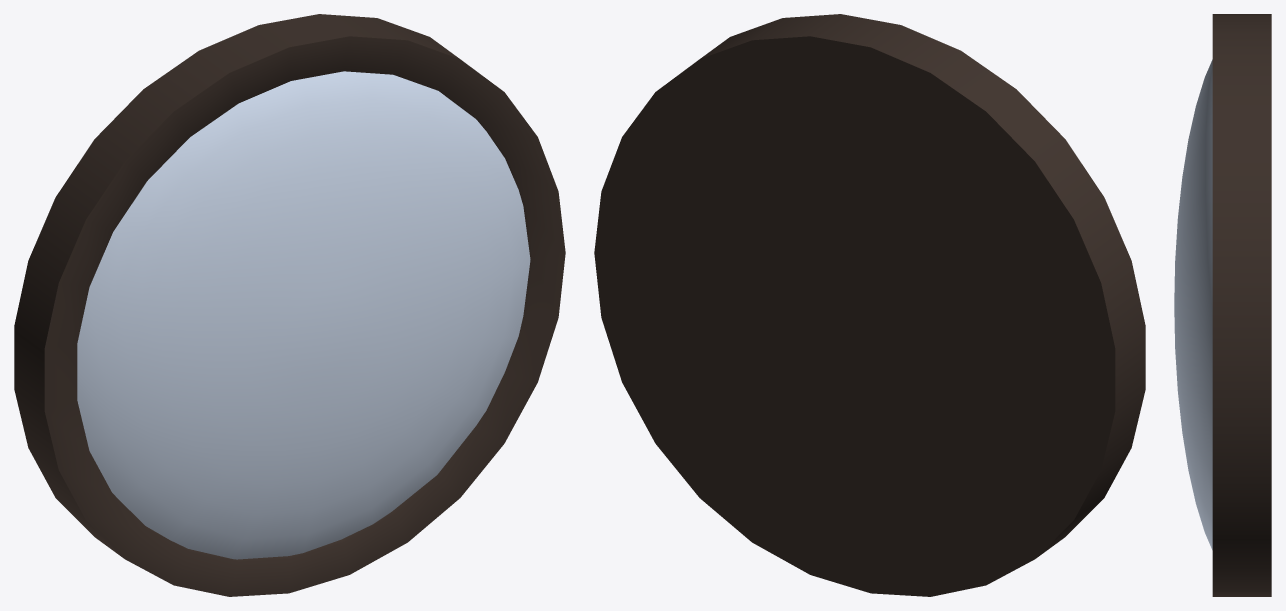
File: PS_Clock_17_DF.fbx
3 renders of one model, left to right at view 1: azimuth 30°, elevation 25°; view 2: azimuth 150°, elevation 25°; view 3: azimuth 270°, elevation 25°, orthographic. The views are drawn at different scales.
Parts seen in each view (by area): view 1: Glass2, BrownOuterTrim; view 2: BrownOuterTrim; view 3: BrownOuterTrim, Glass2.
Part boxes in pixels (x1,y1,x2,y2): Glass2: (77,71,530,559); BrownOuterTrim: (14,14,565,596); BrownOuterTrim: (594,14,1145,596); BrownOuterTrim: (1212,14,1271,596); Glass2: (1174,59,1212,550).
Bounding box in the file's own units: 0.4557 × 0.4564 × 0.0763.
